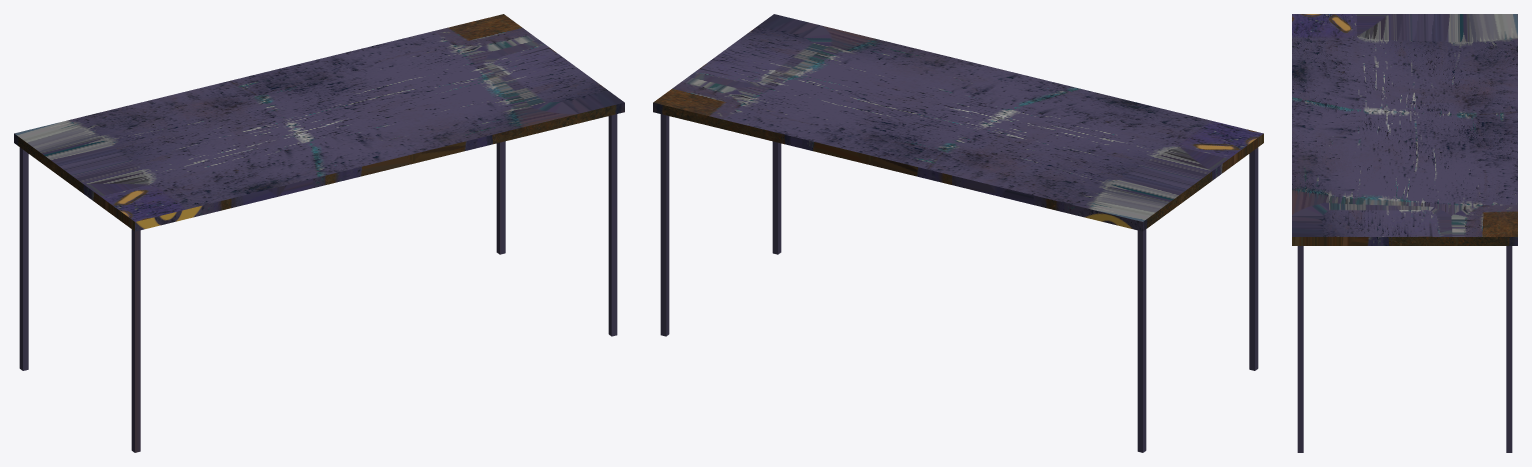
Rendered from platform.fbx.
3 renders of one model, left to right at view 1: azimuth 30°, elevation 25°; view 2: azimuth 150°, elevation 25°; view 3: azimuth 270°, elevation 25°, orthographic. The views are drawn at different scales.
Visible parts, largest first — view 1: platform; view 2: platform; view 3: platform.
Part boxes in pixels (x1=…): platform: x1=14, y1=14, x2=624, y2=452; platform: x1=653, y1=14, x2=1263, y2=452; platform: x1=1292, y1=14, x2=1517, y2=452.
Bounding box in the file's own units: 1726 × 787 × 739.
